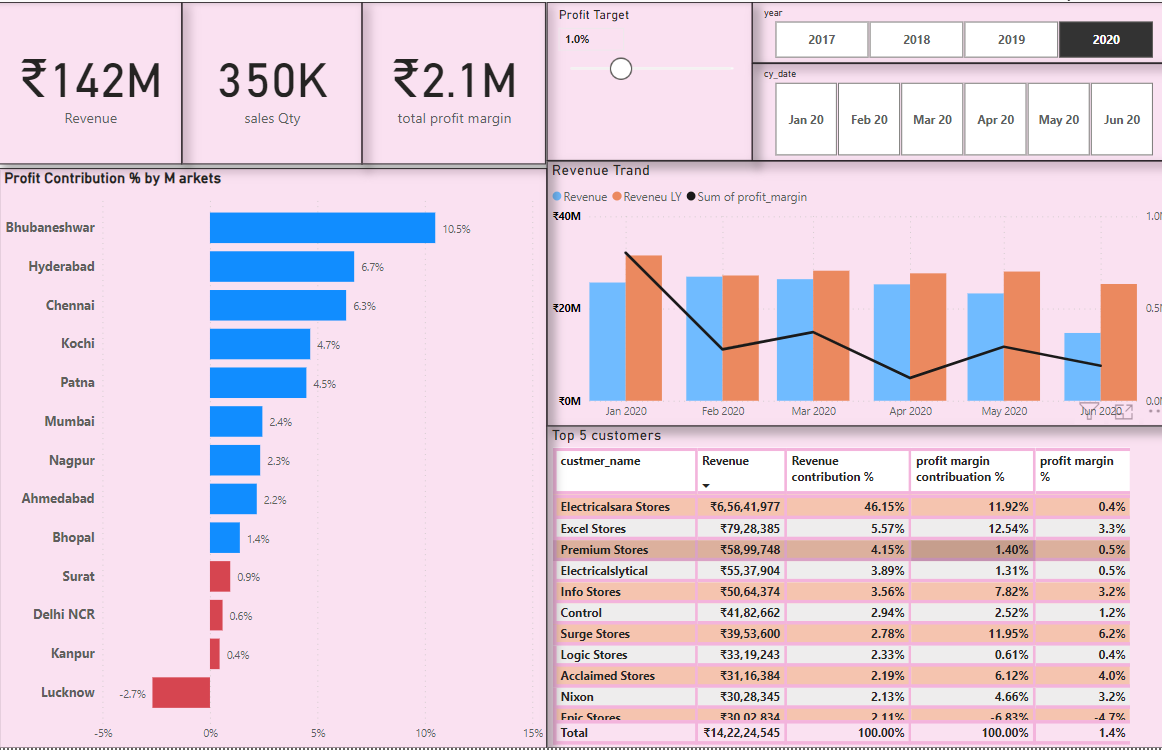

Layout of this report page (visuals, bound fields, positions):
{"tool":"powerbi","page":{"name":"Performance Insights","canvas":[1350,850],"ordinal":2},"visuals":[{"type":"card","fields":{"Values":["base measures.Revenue"]},"box":[0,0,209.7,185.1],"z":0},{"type":"card","fields":{"Values":["base measures.sales Qty"]},"box":[209.7,0,205.3,185.1],"z":1000},{"type":"slicer","fields":{"Values":["sales date.year"]},"box":[858.9,0,481.5,69.4],"z":2000},{"type":"slicer","fields":{"Values":["sales date.cy_date"]},"box":[858.9,69.4,481.5,111.3],"z":3000},{"type":"tableEx","fields":{"Values":["sales customers.custmer_name","base measures.Revenue","sales transactions.Revenue contribution %","sales transactions.profit margin contribuation %","sales transactions.profit margin %"]},"box":[625,482.7,714.7,367.3],"z":4000},{"type":"lineClusteredColumnComboChart","title":"Revenue Trand","fields":{"Category":["sales date.cy_date.Variation.Date Hierarchy.Year"],"Y":["base measures.Revenue","base measures.Reveneu LY"],"Y2":["Sum(sales transactions.profit_margin)"]},"box":[624.7,180.8,715.8,302.2],"z":5000},{"type":"card","fields":{"Values":["sales transactions.total profit margin"]},"box":[415,0,209.7,185.1],"z":6000},{"type":"barChart","title":"Profit Contribution % by M arkets","fields":{"Category":["sales markets.zone","sales markets.markets_name","sales customers.custmer_name"],"Y":["sales transactions.profit margin %"]},"box":[1.4,189.4,623.6,660.6],"z":7000},{"type":"slicer","fields":{"Values":["Profit Target.Profit Target"]},"box":[624.7,0,234.3,180.8],"z":8000}]}

Visuals, with their boxes in screenshot pixels (x1, y1, x2, y2), scaled from the page's 1350x850 canvas onto the 1162x752 screenshot:
card - base measures.Revenue: region(0, 0, 180, 164)
card - base measures.sales Qty: region(180, 0, 357, 164)
slicer - sales date.year: region(739, 0, 1154, 61)
slicer - sales date.cy_date: region(739, 61, 1154, 160)
tableEx - sales customers.custmer_name x base measures.Revenue: region(538, 427, 1153, 751)
"Revenue Trand" lineClusteredColumnComboChart: region(538, 160, 1154, 427)
card - sales transactions.total profit margin: region(357, 0, 538, 164)
"Profit Contribution % by M arkets" barChart: region(1, 168, 538, 751)
slicer - Profit Target.Profit Target: region(538, 0, 739, 160)
